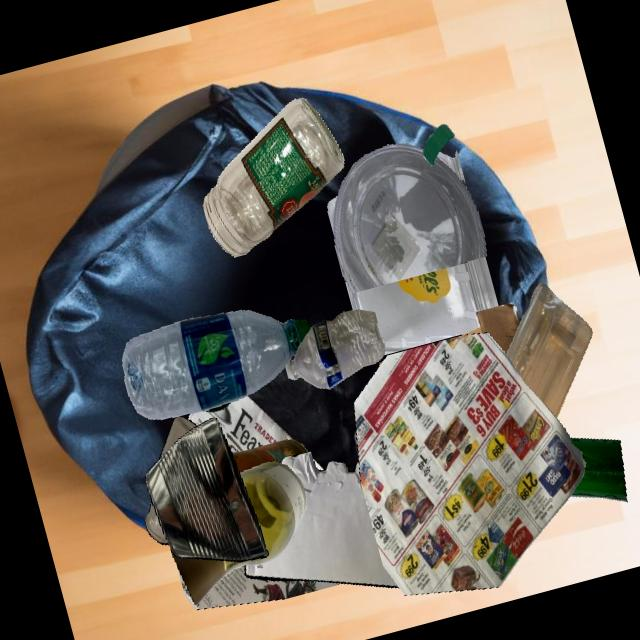cardboard: (459, 302, 520, 354)
glass: (202, 97, 344, 257), (170, 461, 306, 604), (569, 437, 627, 501), (232, 439, 308, 472), (158, 416, 197, 459), (144, 499, 168, 544)
metal: (145, 417, 268, 561)
paper: (353, 332, 585, 595), (244, 451, 399, 587), (233, 442, 312, 580), (176, 564, 339, 609), (354, 430, 358, 456)
plastic: (332, 143, 486, 293), (122, 310, 311, 419), (345, 256, 499, 355), (334, 159, 449, 278), (506, 283, 592, 418), (286, 309, 385, 388), (422, 123, 455, 165), (204, 402, 230, 411)
